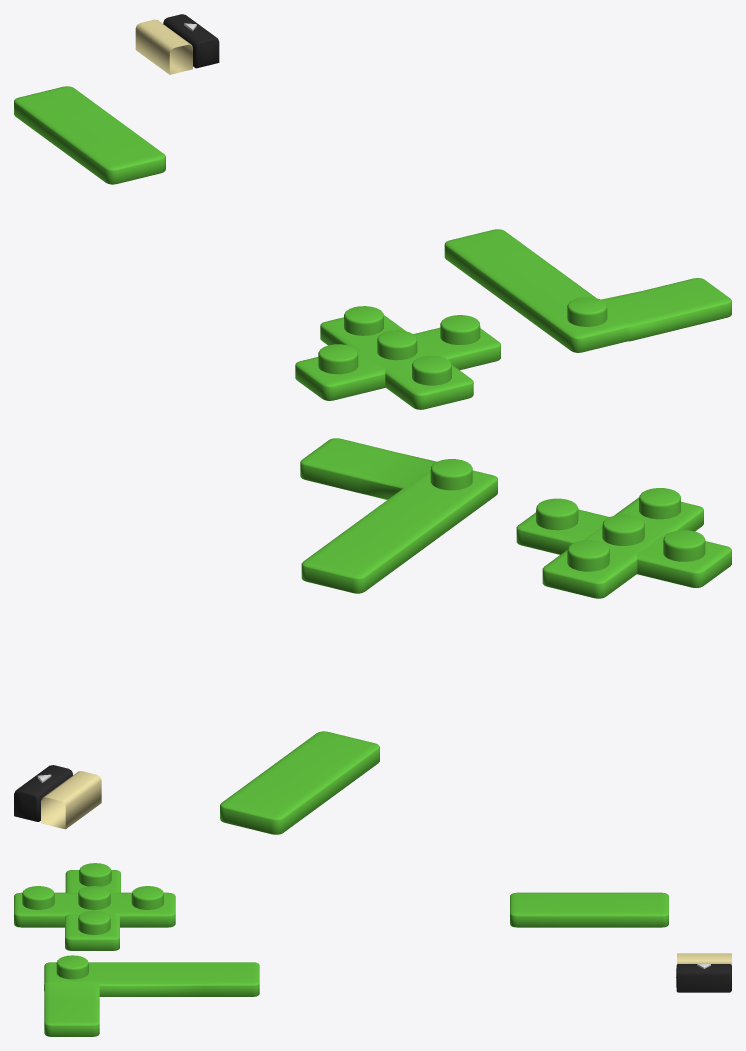
The model's file is PlusBlock_L _plus_Line.fbx.
The picture shows the model from 3 angles, top to bottom: view 1: azimuth 30°, elevation 25°; view 2: azimuth 150°, elevation 25°; view 3: azimuth 270°, elevation 25°; orthographic projection. The views are drawn at different scales.
Parts seen in each view (by area): view 1: L_block, EndingConnectingBlock.004, DoubleBlock.002, BordersSides_, Gates, TopCylinder.005, TopCylinder.004, TopCylinder.002, L_blockTop_cylinder, TopCylinder.001, TopCylinder.003; view 2: L_block, EndingConnectingBlock.004, DoubleBlock.002, BordersSides_, Gates, TopCylinder.005, TopCylinder.004, L_blockTop_cylinder, TopCylinder.001, TopCylinder.002, TopCylinder.003; view 3: L_block, DoubleBlock.002, EndingConnectingBlock.004, Gates, L_blockTop_cylinder, TopCylinder.004, TopCylinder.002, TopCylinder.003, TopCylinder.005, TopCylinder.001, BordersSides_.
Part boxes in pixels (<box>): L_block: <box>444,229,731,352</box>; EndingConnectingBlock.004: <box>295,315,500,409</box>; DoubleBlock.002: <box>14,86,165,184</box>; BordersSides_: <box>135,19,192,74</box>; Gates: <box>163,14,219,68</box>; TopCylinder.005: <box>318,344,358,374</box>; TopCylinder.004: <box>440,315,480,344</box>; TopCylinder.002: <box>377,330,417,360</box>; L_blockTop_cylinder: <box>567,297,607,326</box>; TopCylinder.001: <box>344,306,383,335</box>; TopCylinder.003: <box>412,356,451,385</box>; L_block: <box>300,438,497,593</box>; EndingConnectingBlock.004: <box>516,497,731,598</box>; DoubleBlock.002: <box>220,731,379,834</box>; BordersSides_: <box>41,771,101,829</box>; Gates: <box>14,765,72,821</box>; TopCylinder.005: <box>663,530,705,561</box>; TopCylinder.004: <box>536,498,578,530</box>; L_blockTop_cylinder: <box>430,459,472,490</box>; TopCylinder.001: <box>567,540,609,571</box>; TopCylinder.002: <box>602,514,644,545</box>; TopCylinder.003: <box>639,488,680,519</box>; L_block: <box>44,962,259,1036</box>; DoubleBlock.002: <box>510,892,668,927</box>; EndingConnectingBlock.004: <box>14,870,175,950</box>; Gates: <box>676,964,731,992</box>; L_blockTop_cylinder: <box>56,955,88,979</box>; TopCylinder.004: <box>78,910,110,934</box>; TopCylinder.002: <box>78,886,110,909</box>; TopCylinder.003: <box>22,886,54,909</box>; TopCylinder.005: <box>79,863,111,886</box>; TopCylinder.001: <box>131,886,163,909</box>; BordersSides_: <box>677,953,731,965</box>.
Size of the model in its own units: 1480 by 124 by 2889.
